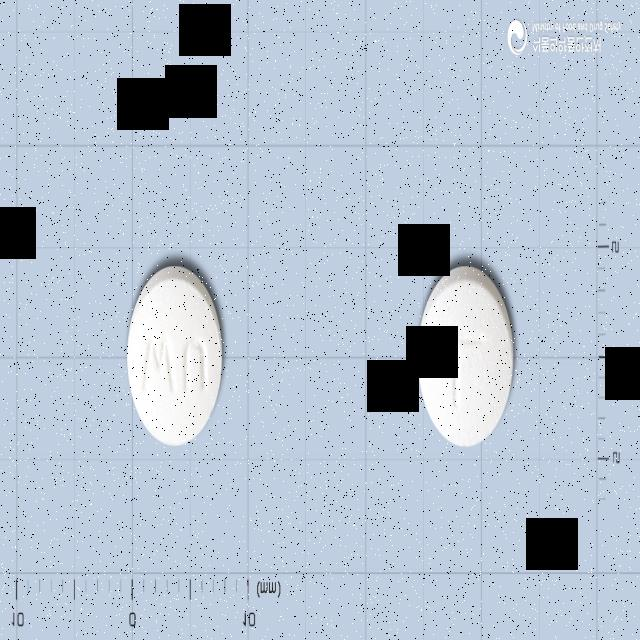Levofloxacin: (126, 264, 224, 447), (418, 264, 514, 448)
